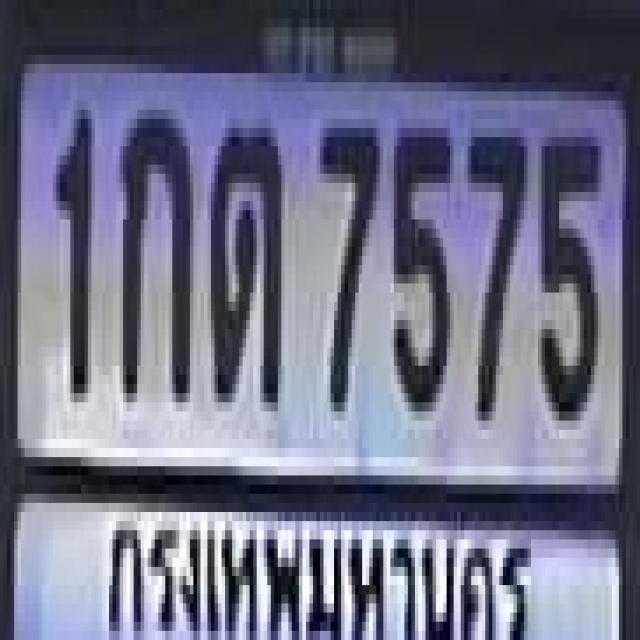1: (53, 101, 88, 393)
5: (538, 128, 598, 411), (390, 119, 447, 402)
7: (316, 119, 376, 402), (464, 128, 524, 411)
A01: (119, 101, 190, 393)
A21: (207, 119, 278, 393)
BKK: (98, 497, 542, 640)
